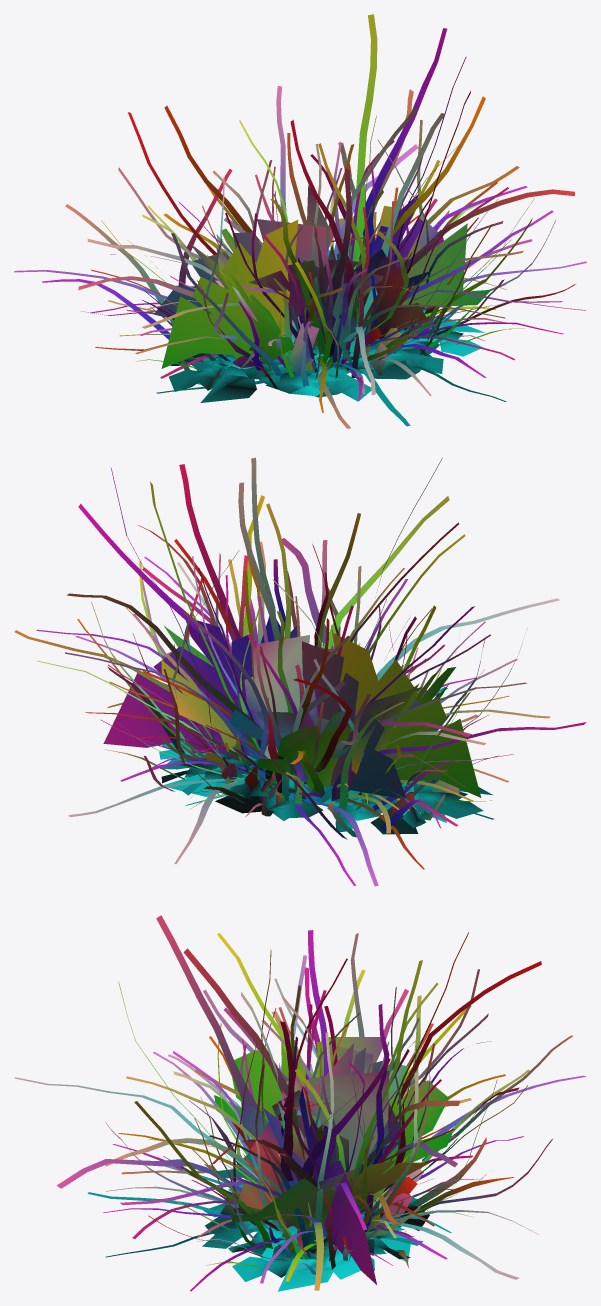
Rendered from Wild_Grass_vczndjqja_Low_vczndjqja_VarA_LOD0.fbx.
The picture shows the model from 3 angles, top to bottom: view 1: azimuth 30°, elevation 25°; view 2: azimuth 150°, elevation 25°; view 3: azimuth 270°, elevation 25°; orthographic projection. The views are drawn at different scales.
Visible parts, largest first — view 1: _lhew_VarA_LOD2; view 2: _lhew_VarA_LOD2; view 3: _lhew_VarA_LOD2.
Boxes of the visible parts, left/top/right/bottom form: _lhew_VarA_LOD2: left=14, top=14, right=586, bottom=428; _lhew_VarA_LOD2: left=14, top=457, right=586, bottom=886; _lhew_VarA_LOD2: left=14, top=915, right=586, bottom=1291.
Size of the model in its own units: 158 by 90.21 by 149.
